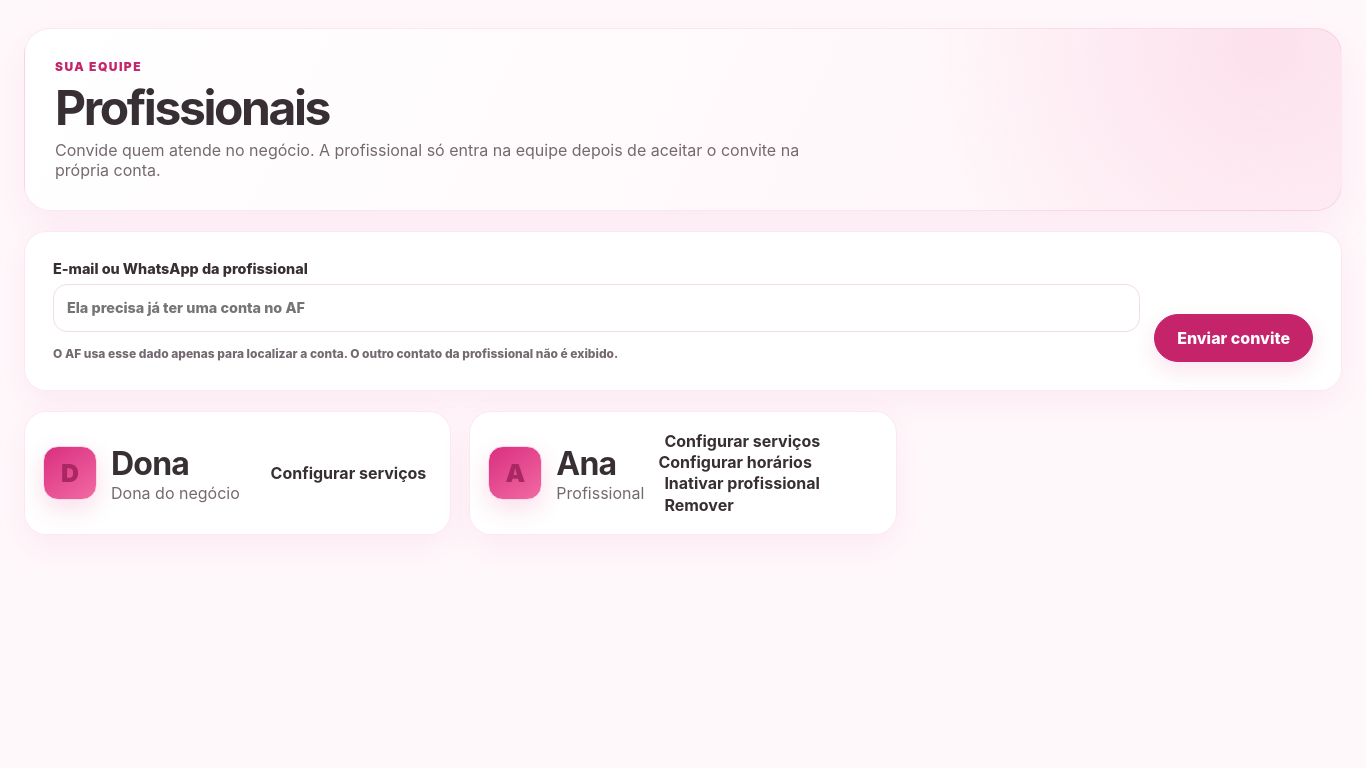
it: inativação manual › rejeição de validação mantém a confirmação e permite corrigir
The width and height of the screenshot is (1366, 768).
Click the button "Inativar profissional" at (742, 483), box [658,472,826,494]
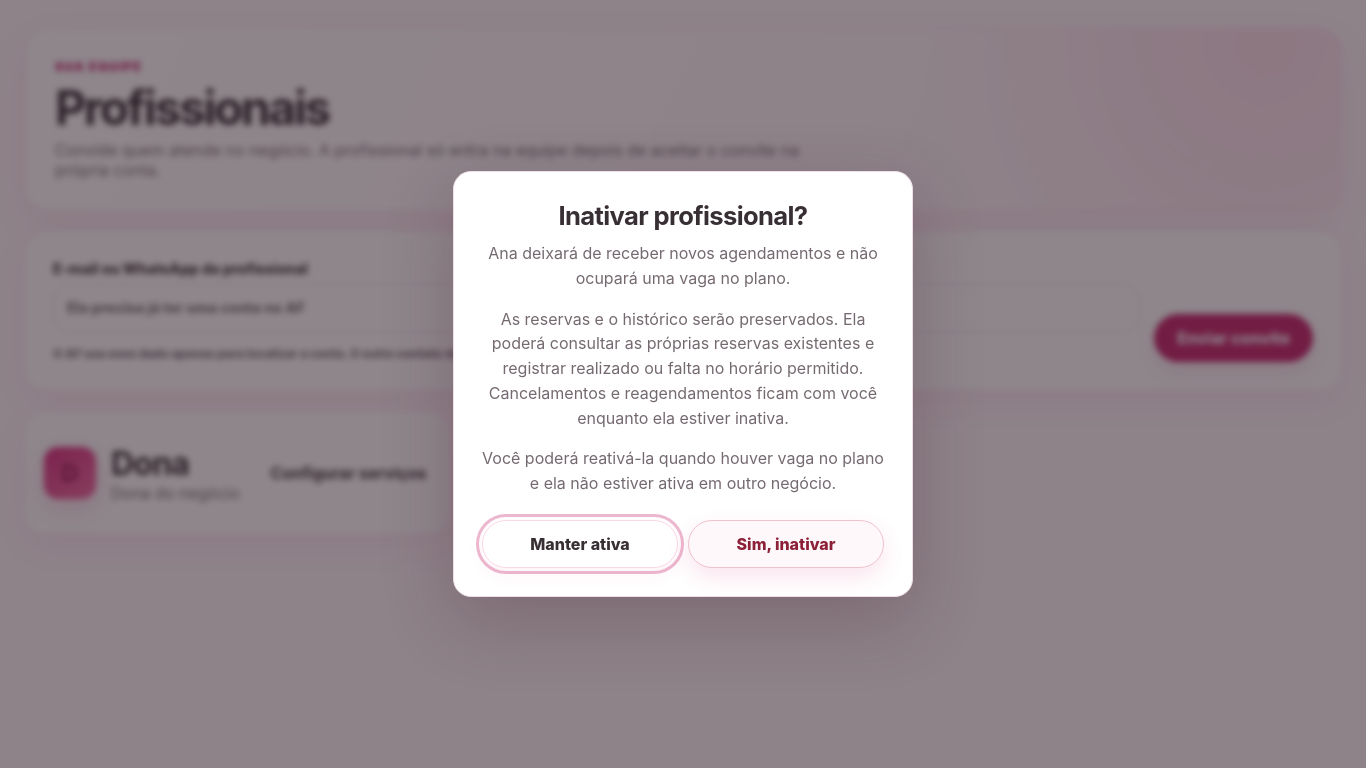
Click the button "Sim, inativar" at (786, 544), box [688,520,884,568]
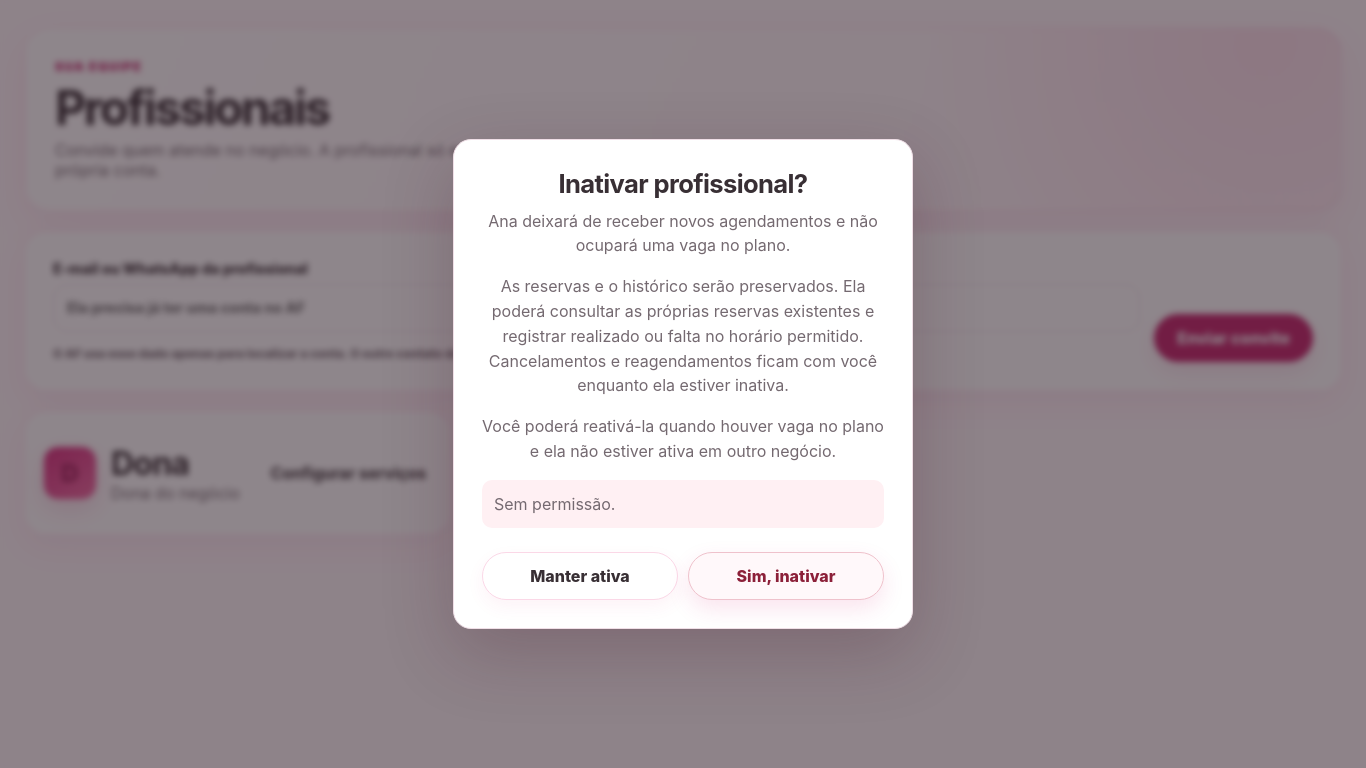
Expected: the button "Sim, inativar" is enabled, [688,552,884,600]
Expected: the text "Sem permissão." is shown, [482,480,884,528]
